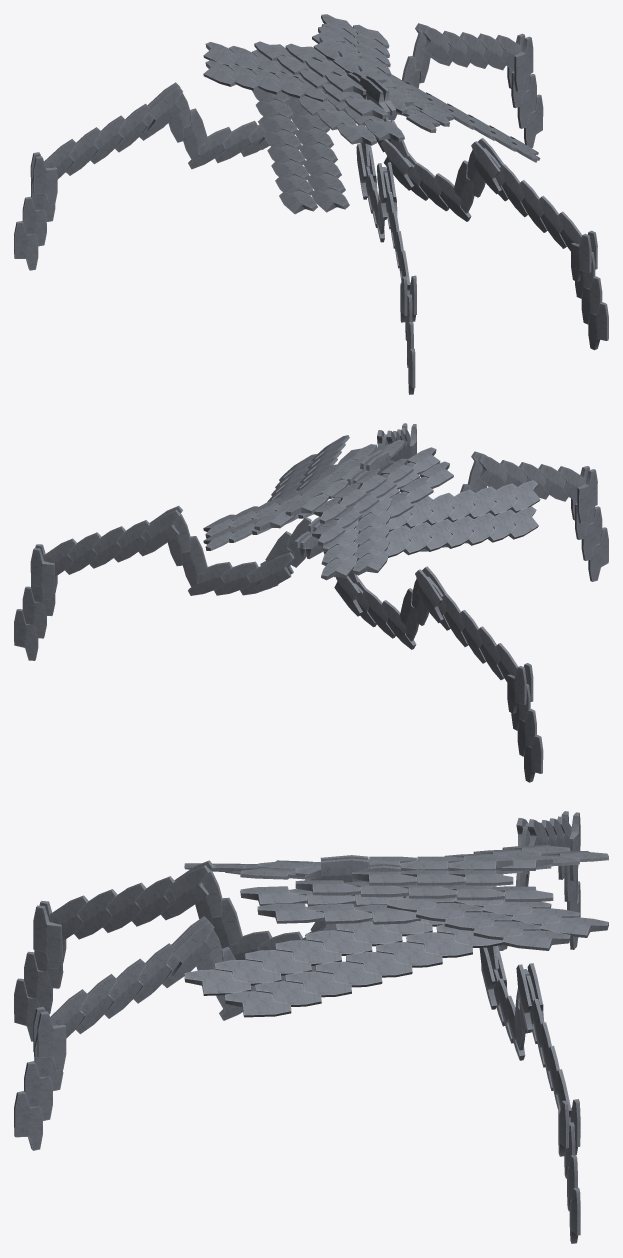
Rendered from replicator_sg1-4b6eb7.glb.
3 views of the same model, one above another, from view 1: azimuth 30°, elevation 25°; view 2: azimuth 150°, elevation 25°; view 3: azimuth 270°, elevation 25° (orthographic). The views are drawn at different scales.
Visible parts, largest first — view 1: Rep_block_low.009, Rep_block_low.022, Rep_block_low.020, Rep_block_low.032, Rep_block_low.011, Rep_block_low.013, Rep_block_low.021, Rep_block_low.002, Rep_block_low.031, Rep_block_low.035, Rep_block_low.012, Rep_block_low.016 (+18 smaller); view 2: Rep_block_low.009, Rep_block_low.022, Rep_block_low.020, Rep_block_low.002, Rep_block_low.011, Rep_block_low.021, Rep_block_low.032, Rep_block_low.024, Rep_block_low.001, Rep_block_low.005, Rep_block_low.031, Rep_block_low.023 (+13 smaller); view 3: Rep_block_low.009, Rep_block_low.022, Rep_block_low.020, Rep_block_low.013, Rep_block_low.011, Rep_block_low.024, Rep_block_low.021, Rep_block_low.012, Rep_block_low.023, Rep_block_low.025, Rep_block_low.002, Rep_block_low.010 (+14 smaller).
Boxes of the visible parts, x1=… form: Rep_block_low.009: x1=252, y1=74, x2=540, y2=214; Rep_block_low.022: x1=203, y1=14, x2=391, y2=101; Rep_block_low.020: x1=298, y1=76, x2=453, y2=145; Rep_block_low.032: x1=44, y1=95, x2=164, y2=179; Rep_block_low.011: x1=254, y1=26, x2=413, y2=119; Rep_block_low.013: x1=484, y1=148, x2=581, y2=251; Rep_block_low.021: x1=285, y1=36, x2=386, y2=94; Rep_block_low.002: x1=430, y1=31, x2=522, y2=70; Rep_block_low.031: x1=14, y1=175, x2=55, y2=270; Rep_block_low.035: x1=188, y1=120, x2=265, y2=169; Rep_block_low.012: x1=575, y1=252, x2=608, y2=350; Rep_block_low.016: x1=405, y1=157, x2=471, y2=221; Rep_block_low.009: x1=267, y1=435, x2=540, y2=557; Rep_block_low.022: x1=203, y1=482, x2=391, y2=580; Rep_block_low.020: x1=301, y1=440, x2=453, y2=519; Rep_block_low.002: x1=42, y1=520, x2=158, y2=576; Rep_block_low.011: x1=254, y1=456, x2=413, y2=545; Rep_block_low.021: x1=285, y1=466, x2=386, y2=523; Rep_block_low.032: x1=427, y1=577, x2=518, y2=681; Rep_block_low.024: x1=487, y1=460, x2=586, y2=501; Rep_block_low.001: x1=14, y1=580, x2=55, y2=660; Rep_block_low.005: x1=188, y1=561, x2=278, y2=595; Rep_block_low.031: x1=511, y1=684, x2=543, y2=782; Rep_block_low.023: x1=575, y1=503, x2=608, y2=581; Rep_block_low.009: x1=184, y1=863, x2=503, y2=1017; Rep_block_low.022: x1=387, y1=845, x2=608, y2=950; Rep_block_low.020: x1=240, y1=860, x2=420, y2=924; Rep_block_low.013: x1=50, y1=931, x2=193, y2=1038; Rep_block_low.011: x1=295, y1=855, x2=553, y2=901; Rep_block_low.024: x1=48, y1=876, x2=194, y2=940; Rep_block_low.021: x1=352, y1=856, x2=513, y2=885; Rep_block_low.012: x1=14, y1=1033, x2=63, y2=1150; Rep_block_low.023: x1=14, y1=944, x2=63, y2=1041; Rep_block_low.025: x1=195, y1=870, x2=242, y2=948; Rep_block_low.002: x1=526, y1=975, x2=571, y2=1122; Rep_block_low.010: x1=305, y1=855, x2=496, y2=898.
Bounding box in the file's own units: 0.5968 × 0.2114 × 0.4798.
Materials: 1 (1 with a texture image).
